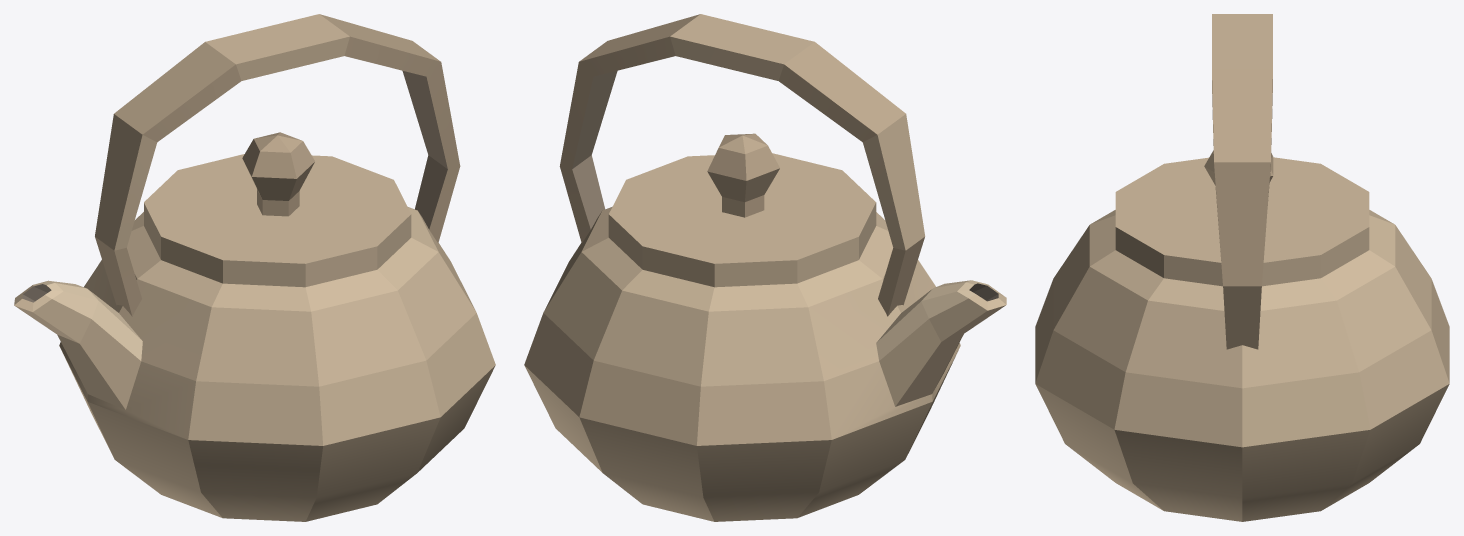
File: SM_Prop_Pot_02.fbx
3 renders of one model, left to right at view 1: azimuth 30°, elevation 25°; view 2: azimuth 150°, elevation 25°; view 3: azimuth 270°, elevation 25°, orthographic.
Visible parts, largest first — view 1: SM_Prop_Pot_02; view 2: SM_Prop_Pot_02; view 3: SM_Prop_Pot_02.
Boxes of the visible parts, x1,y1,x2,y2 form: SM_Prop_Pot_02: (14,14,495,521); SM_Prop_Pot_02: (524,14,1006,521); SM_Prop_Pot_02: (1035,14,1449,521).
Size of the model in its own units: 0.00446 by 0.00401 by 0.00356.
1 material, 1 textured.
